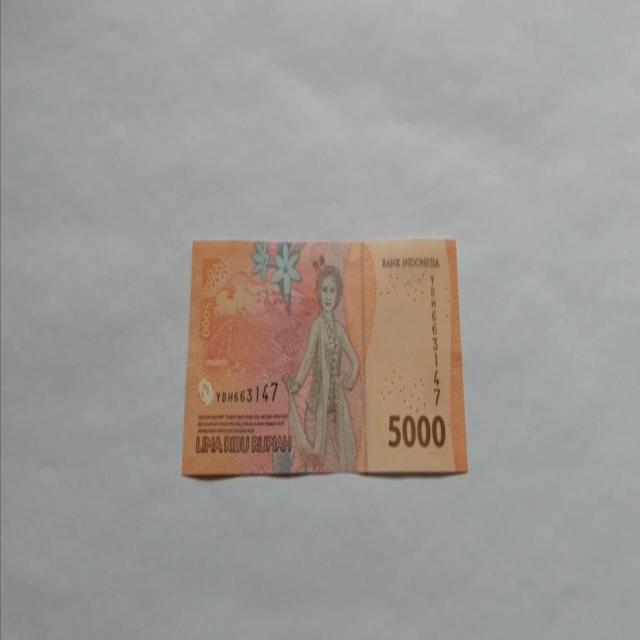lima ribu rupiah: (180, 236, 468, 478), (281, 263, 361, 474)
